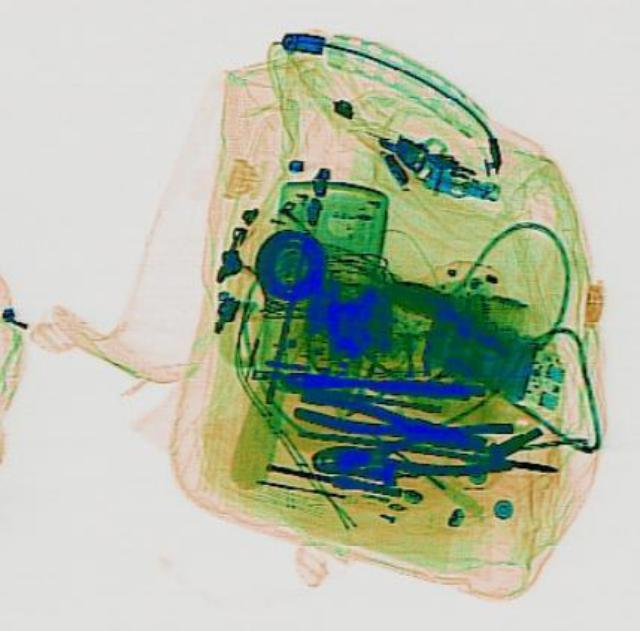Pliers: (289, 381, 487, 460), (309, 417, 513, 482)
